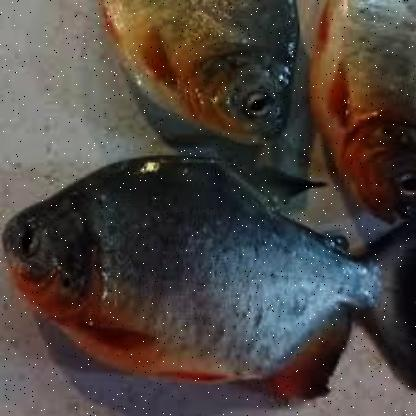ikan-pacu: (3, 172, 378, 382), (111, 0, 309, 148), (316, 0, 415, 202)
